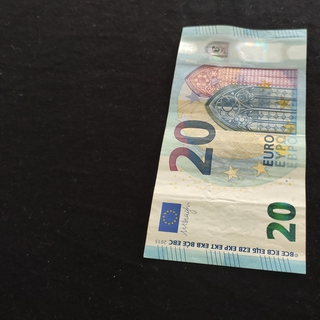20EUROFront: (143, 25, 308, 276)
